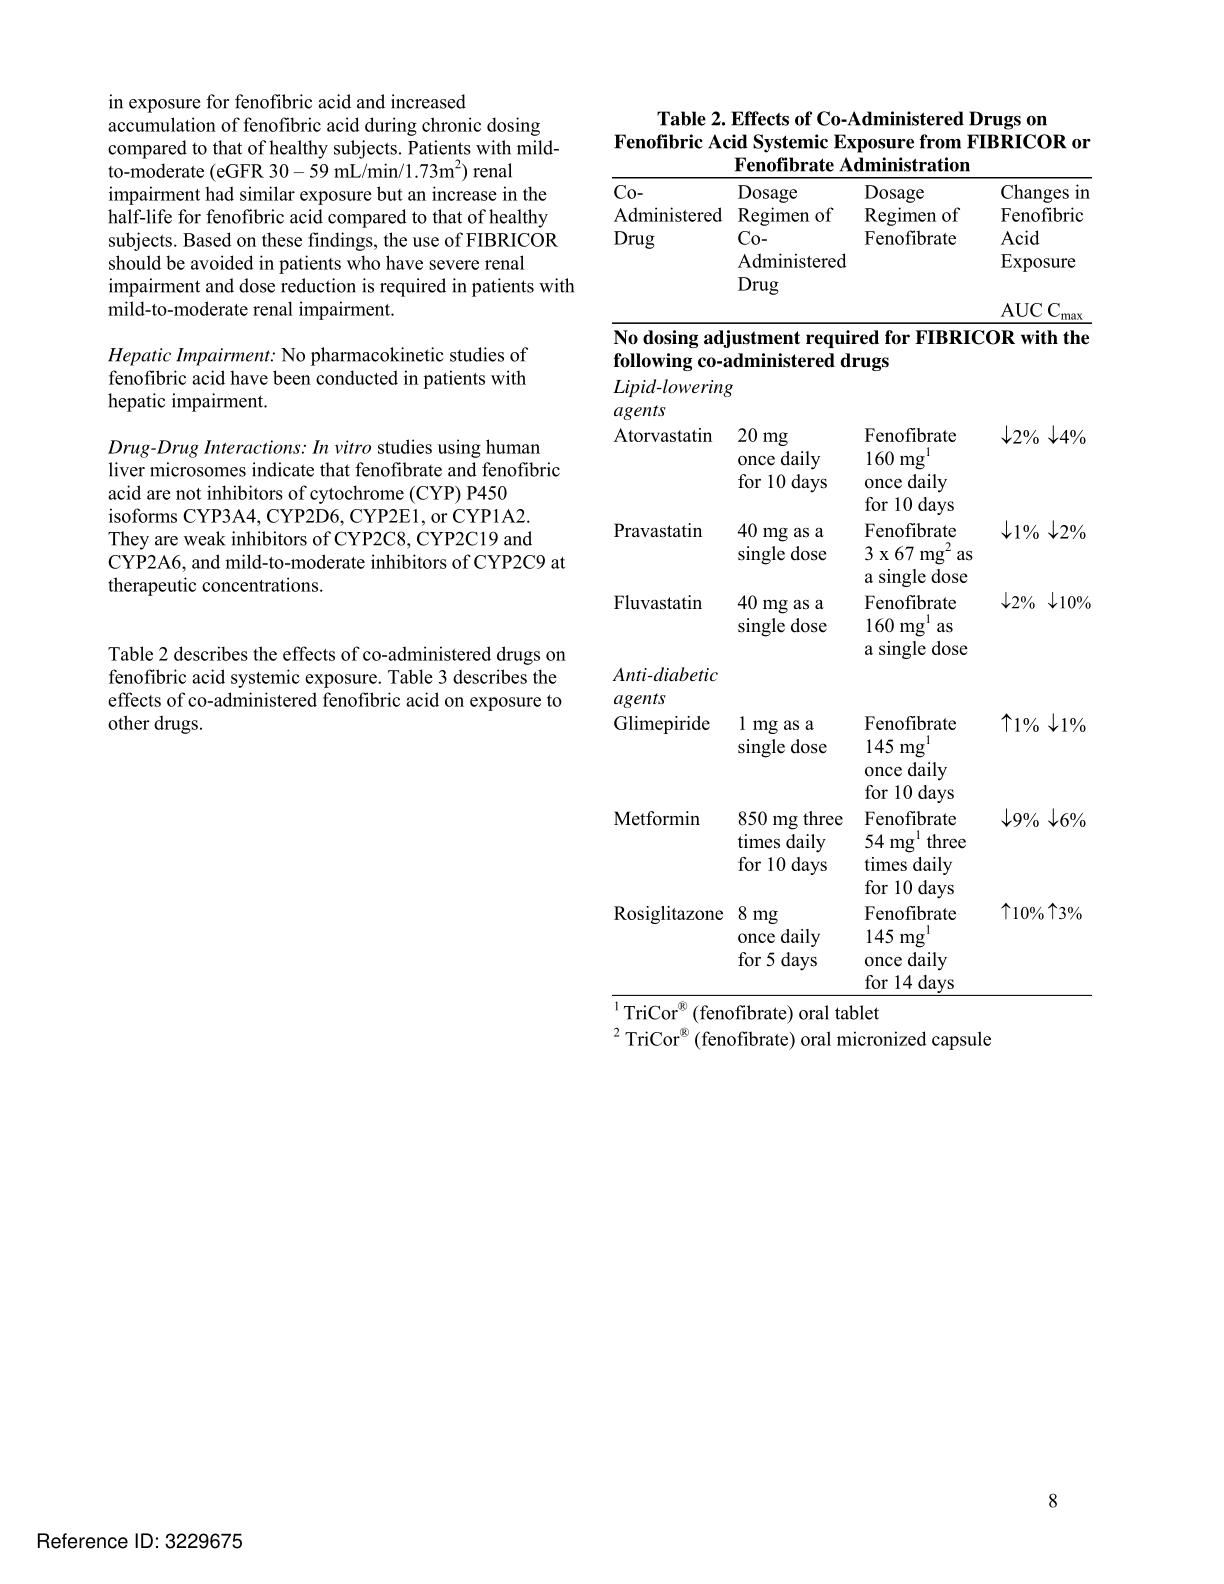partial_lined_merged_cells: (609, 175, 1095, 1000)
